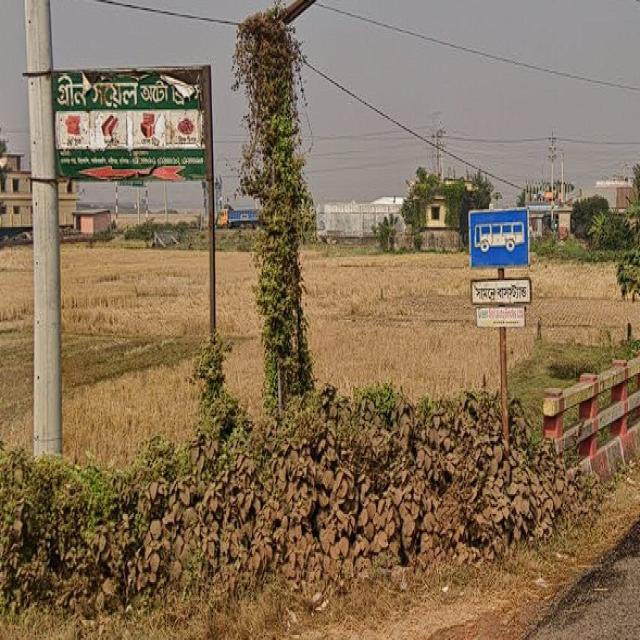Ahead-the-bus-station: (465, 208, 534, 304)
